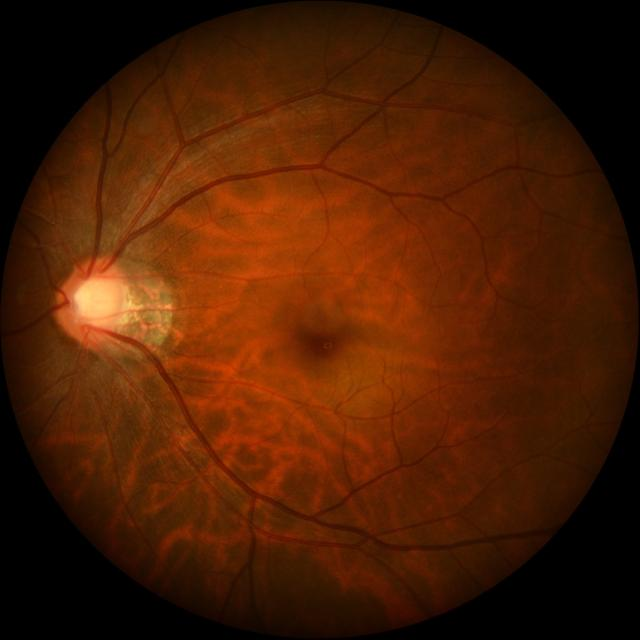OC: (74, 275, 118, 327)
OD: (58, 258, 124, 344)
